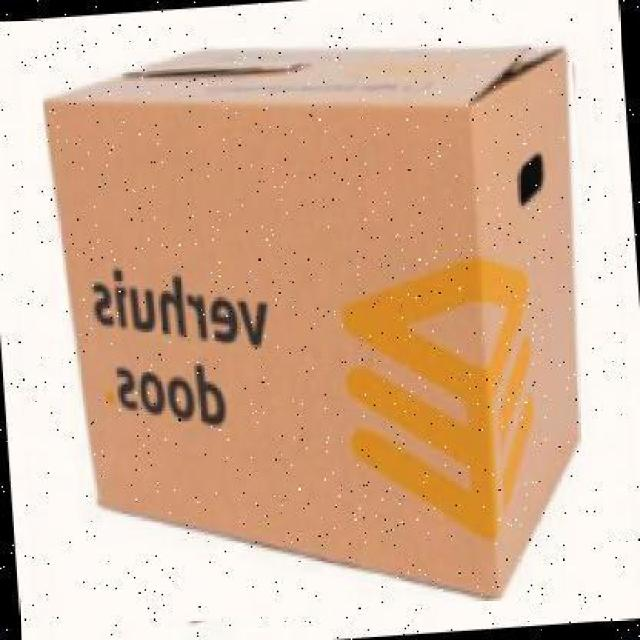box: (41, 46, 582, 600)
normal_hole: (517, 152, 544, 208)
